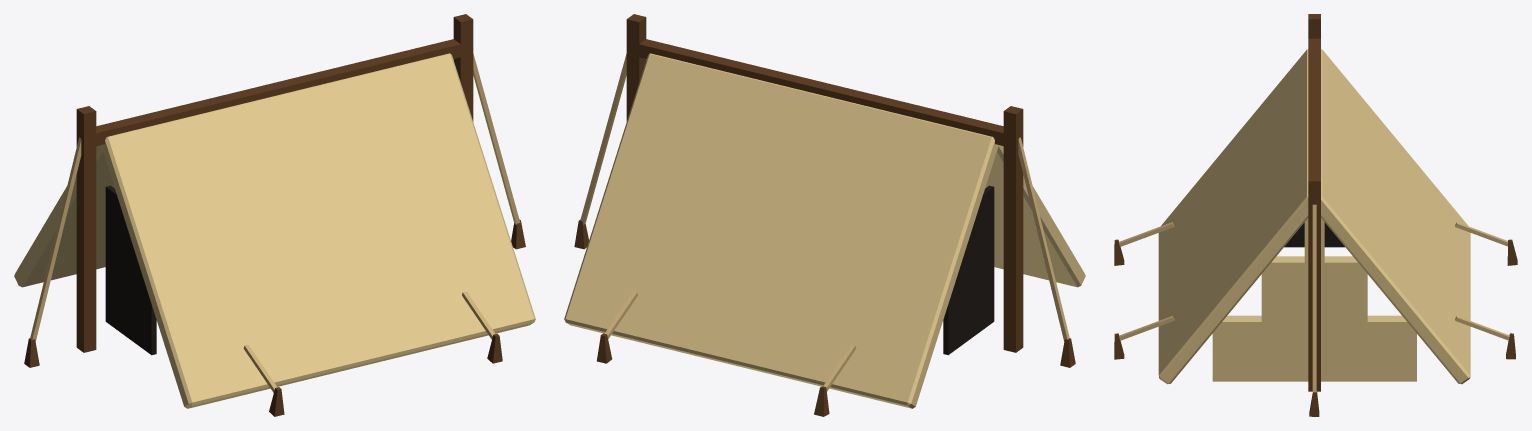
The model's file is Tent.fbx.
3 renders of one model, left to right at view 1: azimuth 30°, elevation 25°; view 2: azimuth 150°, elevation 25°; view 3: azimuth 270°, elevation 25°, orthographic. The views are drawn at different scales.
Parts seen in each view (by area): view 1: Canvas, Wood, Door, Rope; view 2: Canvas, Wood, Door, Rope; view 3: Canvas, Wood, Rope, Door.
Part boxes in pixels (x1=…): Canvas: x1=14, y1=53, x2=535, y2=408; Wood: x1=24, y1=14, x2=525, y2=416; Door: x1=105, y1=185, x2=156, y2=355; Rope: x1=30, y1=54, x2=520, y2=392; Canvas: x1=564, y1=53, x2=1085, y2=408; Wood: x1=574, y1=14, x2=1075, y2=416; Door: x1=943, y1=185, x2=994, y2=355; Rope: x1=580, y1=54, x2=1069, y2=391; Canvas: x1=1158, y1=49, x2=1470, y2=384; Wood: x1=1114, y1=14, x2=1517, y2=416; Rope: x1=1119, y1=204, x2=1509, y2=392; Door: x1=1284, y1=222, x2=1344, y2=247.
Size of the model in its own units: 10 by 4.66 by 8.
